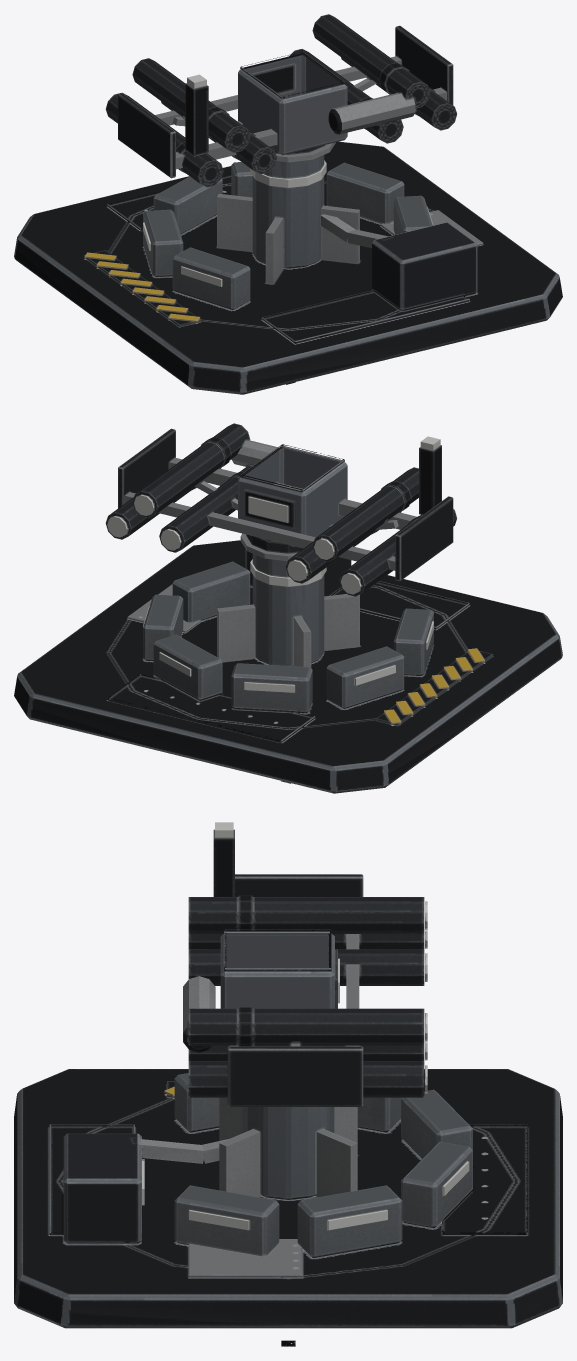
Rendered from chs_thorn.fbx.
3 renders of one model, top to bottom at view 1: azimuth 30°, elevation 25°; view 2: azimuth 150°, elevation 25°; view 3: azimuth 270°, elevation 25°, orthographic. The views are drawn at different scales.
Visible parts, largest first — view 1: base_bar, launcher_bar, base_glow_power_bar, base_glow_running_bar; view 2: base_bar, launcher_bar, launcher_glow_weapon_bar, base_glow_running_bar, base_glow_power_bar; view 3: base_bar, launcher_bar, base_glow_running_bar.
Part boxes in pixels (left/top/right/bottom): base_bar: left=14, top=141, right=562, bottom=394; launcher_bar: left=105, top=14, right=456, bottom=187; base_glow_power_bar: left=250, top=160, right=326, bottom=187; base_glow_running_bar: left=143, top=206, right=433, bottom=286; base_bar: left=14, top=533, right=562, bottom=793; launcher_bar: left=105, top=423, right=457, bottom=596; launcher_glow_weapon_bar: left=107, top=494, right=361, bottom=594; base_glow_running_bar: left=143, top=606, right=433, bottom=692; base_glow_power_bar: left=250, top=559, right=326, bottom=586; base_bar: left=14, top=1069, right=562, bottom=1328; launcher_bar: left=183, top=829, right=424, bottom=1106; base_glow_running_bar: left=189, top=1161, right=469, bottom=1230.
Size of the model in its own units: 769 by 687 by 769.
Materials: 2 (2 with a texture image).
